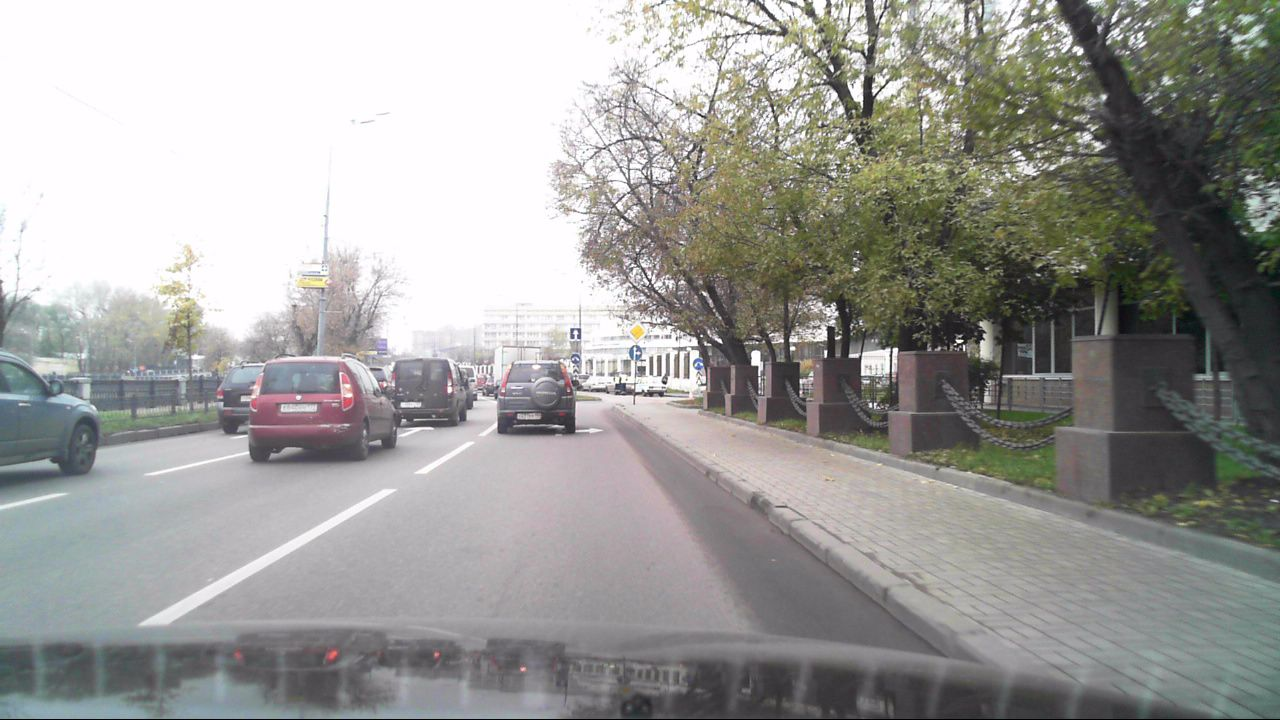main road: (627, 319, 647, 342)
